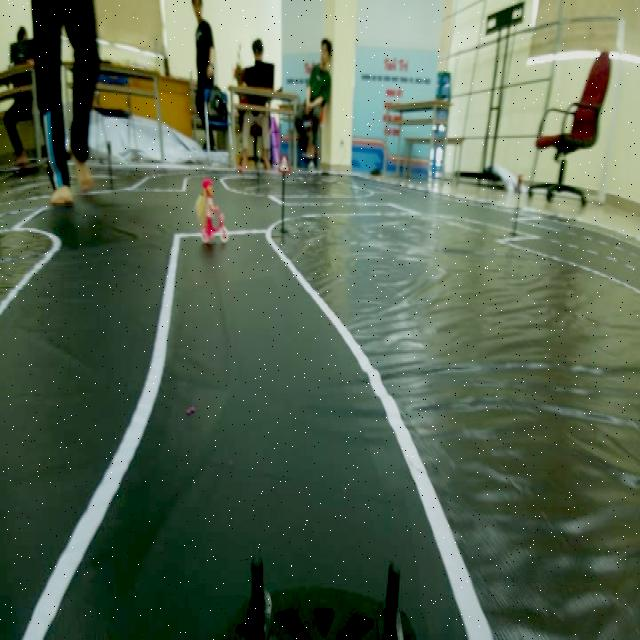pedestrian: (192, 175, 233, 250)
